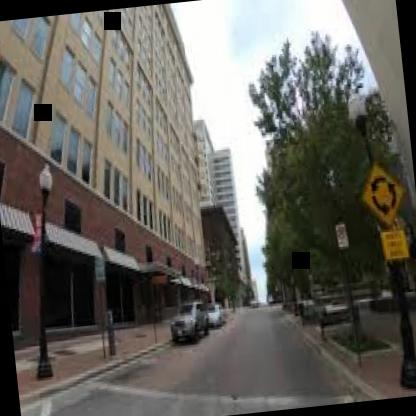car: (166, 294, 214, 348), (200, 287, 226, 333)
